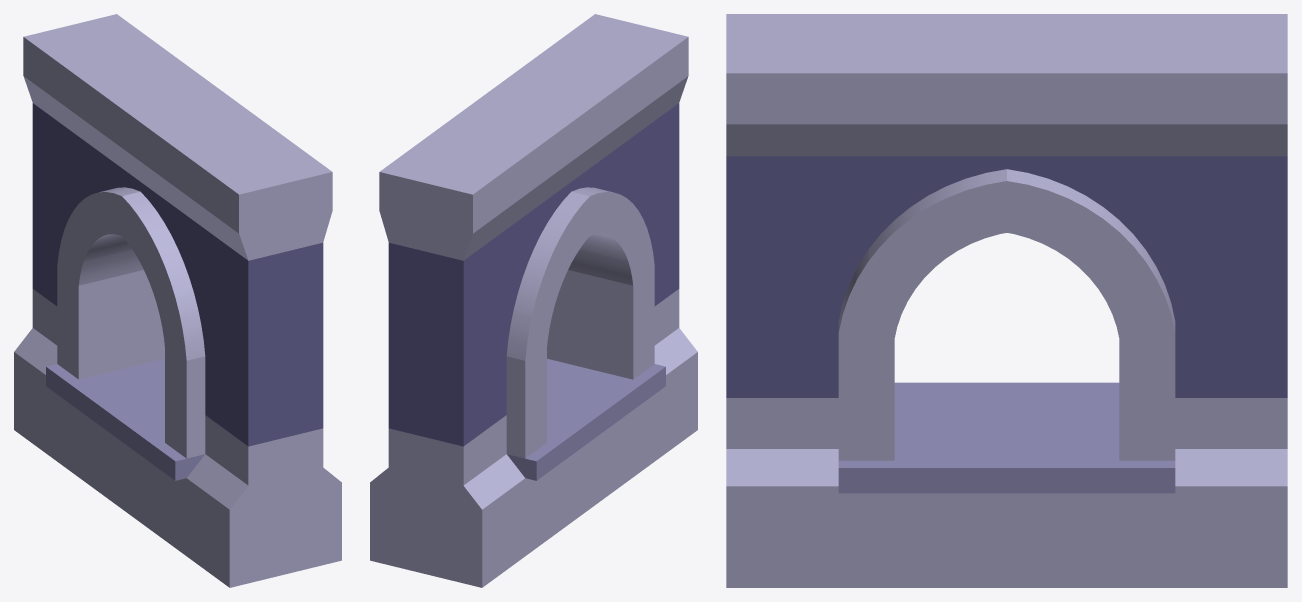
Rendered from wall_gate.glb.
3 renders of one model, left to right at view 1: azimuth 30°, elevation 25°; view 2: azimuth 150°, elevation 25°; view 3: azimuth 270°, elevation 25°, orthographic. The views are drawn at different scales.
Parts seen in each view (by area): view 1: wall_window; view 2: wall_window; view 3: wall_window.
Part boxes in pixels (bbox=[...]): wall_window: bbox=[14, 14, 341, 587]; wall_window: bbox=[370, 14, 697, 587]; wall_window: bbox=[726, 14, 1287, 587].
Bounding box in the file's own units: 0.36 × 1 × 1.
